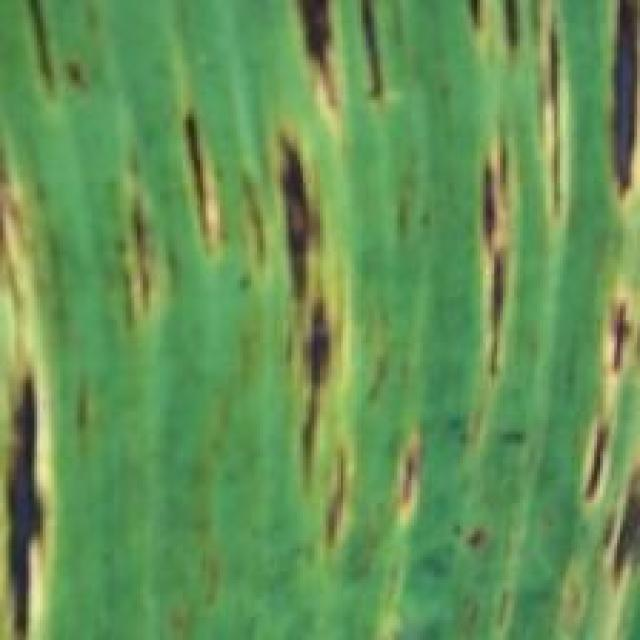Early_leaf_spot: (408, 0, 578, 413), (549, 0, 640, 640), (235, 93, 358, 542), (0, 165, 85, 640), (97, 67, 235, 346), (248, 0, 418, 135), (10, 0, 114, 145), (377, 364, 432, 590), (334, 538, 434, 640), (440, 520, 516, 640)
